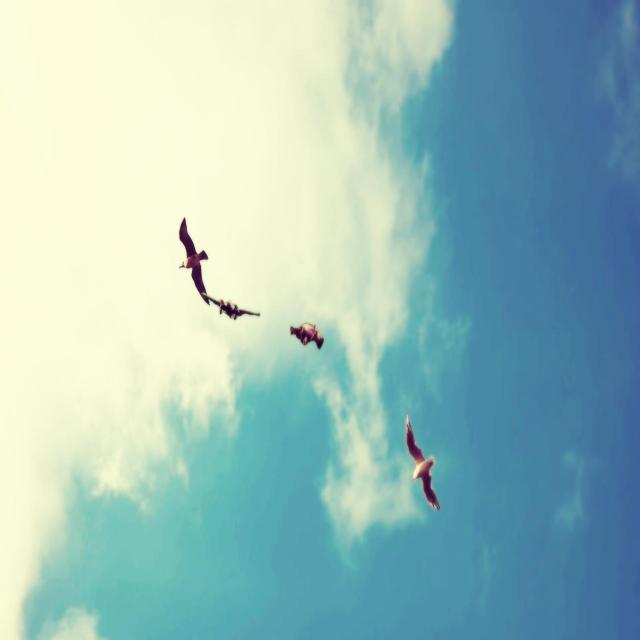airplane: (201, 293, 260, 321), (290, 321, 324, 350)
